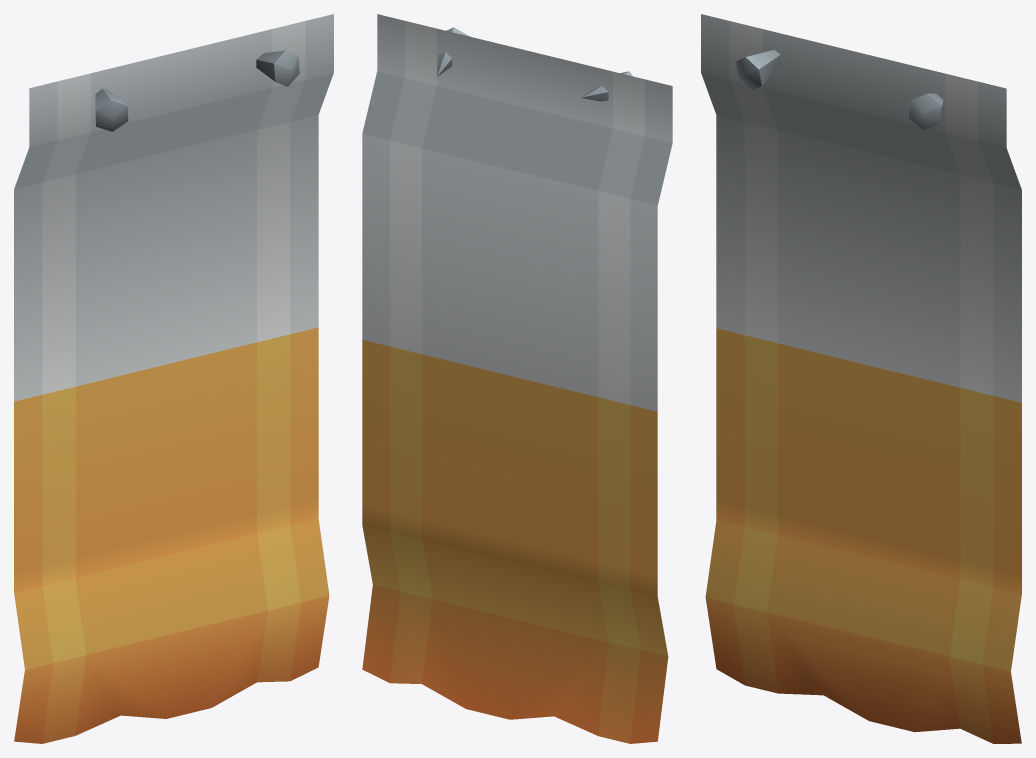
File: banner_patternB_yellow.glb
3 renders of one model, left to right at view 1: azimuth 30°, elevation 25°; view 2: azimuth 150°, elevation 25°; view 3: azimuth 330°, elevation 25°, orthographic. The views are drawn at different scales.
Parts seen in each view (by area): view 1: banner_patternB_yellow; view 2: banner_patternB_yellow; view 3: banner_patternB_yellow.
Part boxes in pixels (<box>): banner_patternB_yellow: <box>14,14,333,743</box>; banner_patternB_yellow: <box>362,14,672,743</box>; banner_patternB_yellow: <box>701,14,1021,743</box>.
Size of the model in its own units: 1.5 by 3.2 by 0.3117.
Materials: 1 (1 with a texture image).
